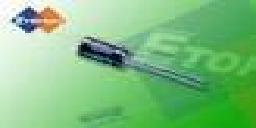Electrolytic-capacitor: (73, 34, 204, 90)
